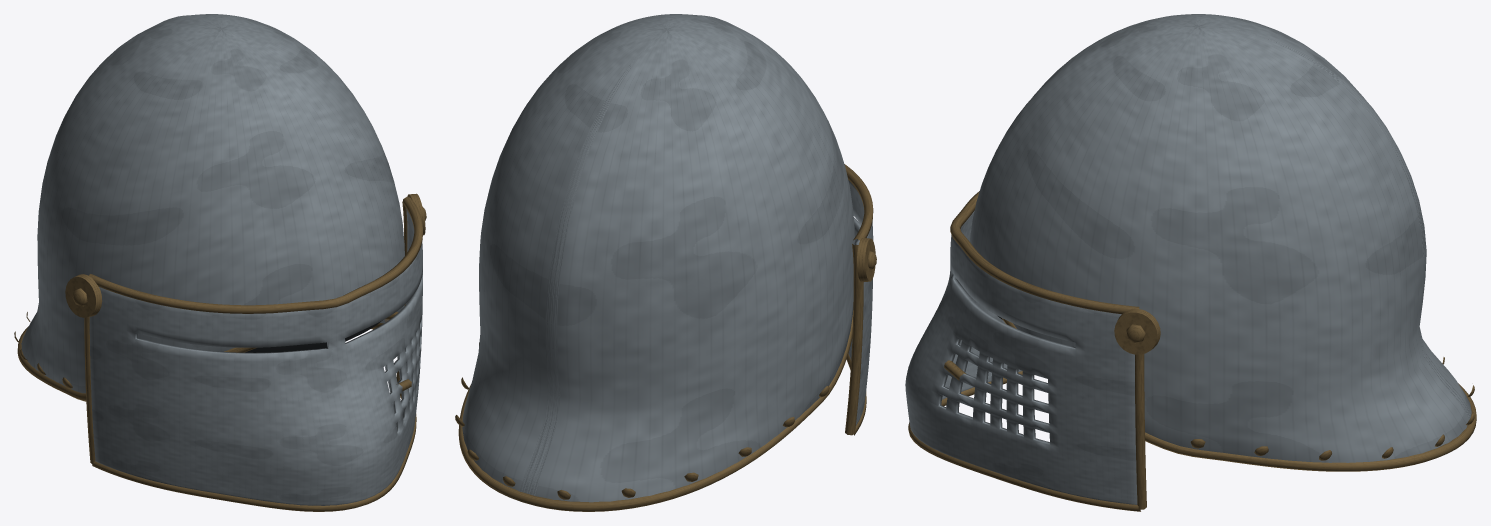
3 views of the same model, side by side, from view 1: azimuth 30°, elevation 25°; view 2: azimuth 150°, elevation 25°; view 3: azimuth 270°, elevation 25° (orthographic). The views are drawn at different scales.
Parts seen in each view (by area): view 1: hammered plate, aged alloy edge, recess and lining; view 2: hammered plate, aged alloy edge; view 3: hammered plate, aged alloy edge.
Part boxes in pixels (left/top/right/bottom): hammered plate: left=21, top=14, right=422, bottom=505; aged alloy edge: left=14, top=193, right=426, bottom=511; recess and lining: left=245, top=320, right=382, bottom=352; hammered plate: left=462, top=14, right=873, bottom=502; aged alloy edge: left=455, top=164, right=876, bottom=511; hammered plate: left=905, top=14, right=1471, bottom=504; aged alloy edge: left=908, top=191, right=1476, bottom=511.
Size of the model in its own units: 0.2495 by 0.259 by 0.3303.
4 materials, 3 textured.
